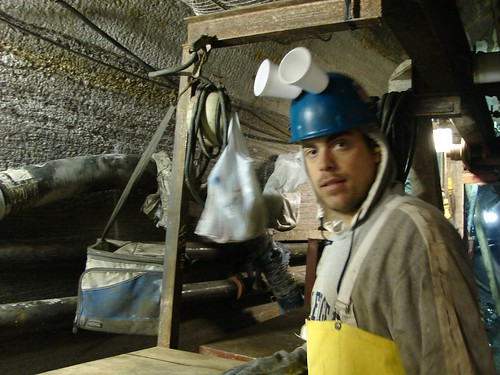person hardhat: (286, 78, 491, 375)
